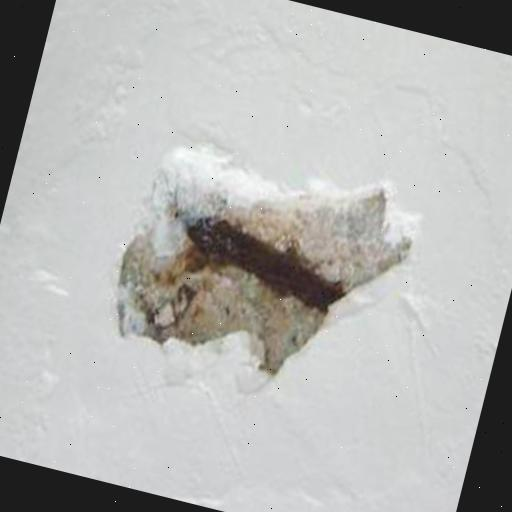spalling: (90, 119, 430, 421)
